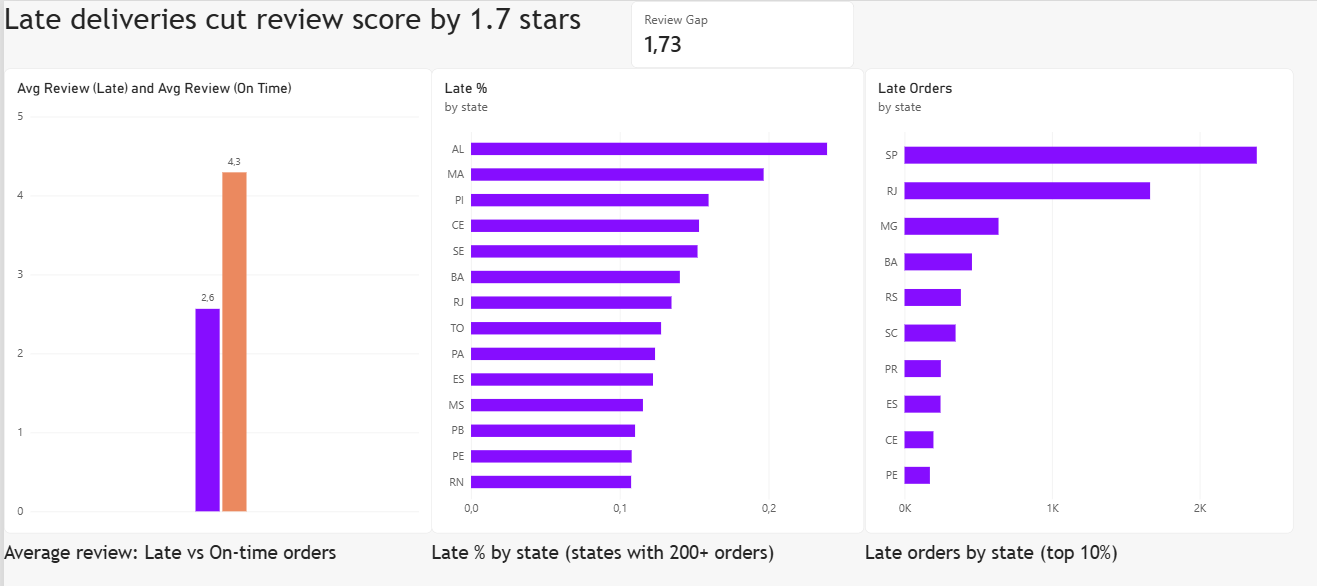

The page's visual inventory and layout, read from the dashboard file:
{"tool":"powerbi","page":{"name":"Delivery","canvas":[1920,1080],"ordinal":3},"visuals":[{"type":"cardVisual","fields":{"Data":["vw_order_facts.Review Gap"]},"box":[803.9,0,286.3,86.3],"z":0},{"type":"textbox","box":[0,0,762.7,43.1],"z":1000},{"type":"clusteredColumnChart","fields":{"Y":["vw_order_facts.Avg Review (Late)","vw_order_facts.Avg Review (On Time)"]},"box":[0,86.3,549,596.1],"z":2000},{"type":"barChart","fields":{"Category":["vw_order_facts.state"],"Y":["vw_order_facts.Late %"]},"box":[549,86.3,554.9,596.1],"z":3000},{"type":"barChart","fields":{"Category":["vw_order_facts.state"],"Y":["vw_order_facts.Late Orders"]},"box":[1103.9,86.3,549,596.1],"z":4000},{"type":"textbox","box":[0,692.2,549,68.6],"z":5000},{"type":"textbox","box":[0,866.7,217.6,41.2],"z":6000},{"type":"textbox","box":[549,692.2,592.2,35.3],"z":7000},{"type":"textbox","box":[1103.9,692.2,549,35.3],"z":8000}]}

Visuals, with their boxes on the page's 1920x1080 design canvas (x1, y1, x2, y2). These are canvas units, not pixel positions in the 1317x586 screenshot, which may show the page scaled, cropped or inside an application window:
cardVisual - vw_order_facts.Review Gap: {"left": 804, "top": 0, "right": 1090, "bottom": 86}
textbox: {"left": 0, "top": 0, "right": 763, "bottom": 43}
clusteredColumnChart - vw_order_facts.Avg Review (Late) x vw_order_facts.Avg Review (On Time): {"left": 0, "top": 86, "right": 549, "bottom": 682}
barChart - vw_order_facts.state x vw_order_facts.Late %: {"left": 549, "top": 86, "right": 1104, "bottom": 682}
barChart - vw_order_facts.state x vw_order_facts.Late Orders: {"left": 1104, "top": 86, "right": 1653, "bottom": 682}
textbox: {"left": 0, "top": 692, "right": 549, "bottom": 761}
textbox: {"left": 0, "top": 867, "right": 218, "bottom": 908}
textbox: {"left": 549, "top": 692, "right": 1141, "bottom": 728}
textbox: {"left": 1104, "top": 692, "right": 1653, "bottom": 728}
